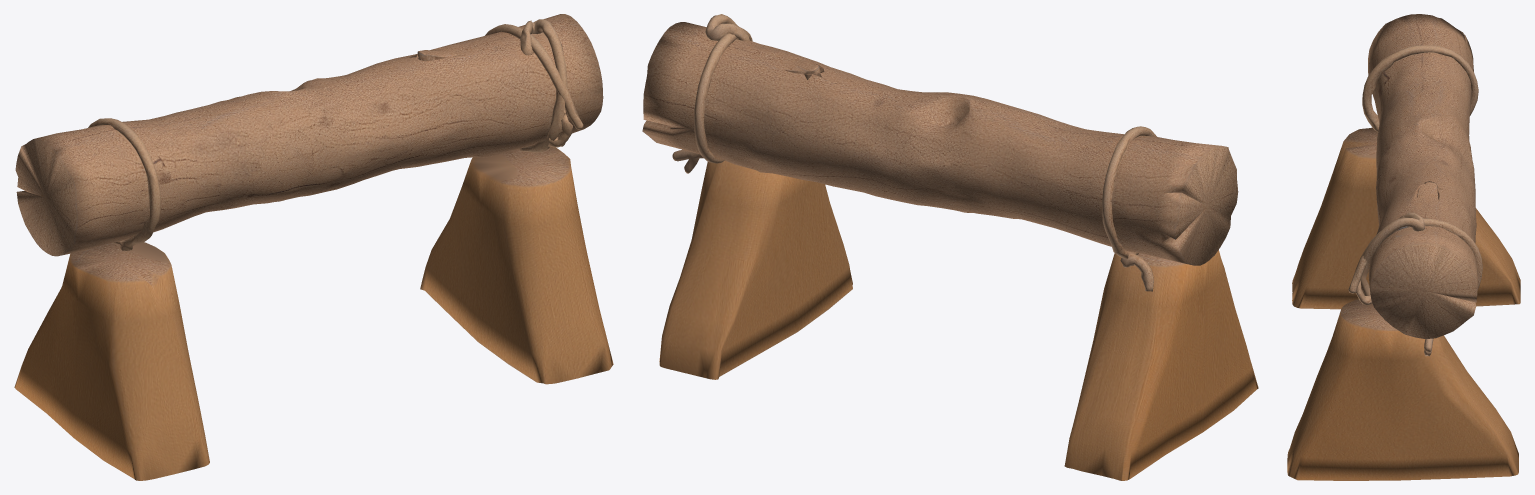
File: log_jump.glb
3 views of the same model, side by side, from view 1: azimuth 30°, elevation 25°; view 2: azimuth 150°, elevation 25°; view 3: azimuth 270°, elevation 25° (orthographic). The views are drawn at different scales.
Visible parts, largest first — view 1: log_jump; view 2: log_jump; view 3: log_jump.
Part boxes in pixels (<box>): log_jump: <box>14,14,613,480</box>; log_jump: <box>642,14,1258,480</box>; log_jump: <box>1287,14,1520,480</box>.
Bounding box in the file's own units: 1.3 × 0.7 × 0.5688.
1 material, 1 textured.
